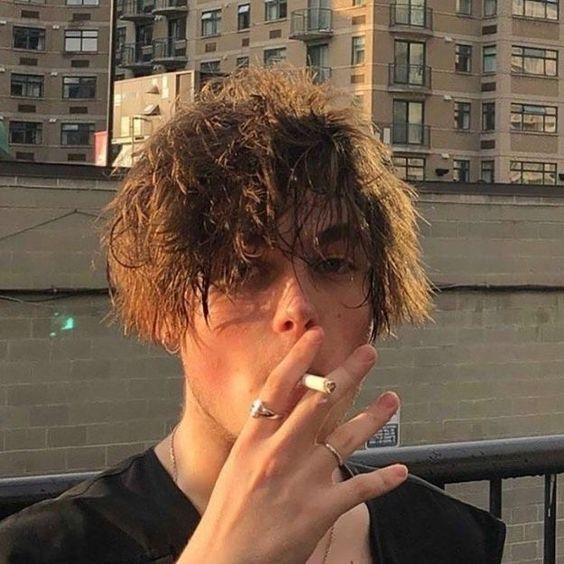cigarette: (298, 373, 337, 394)
